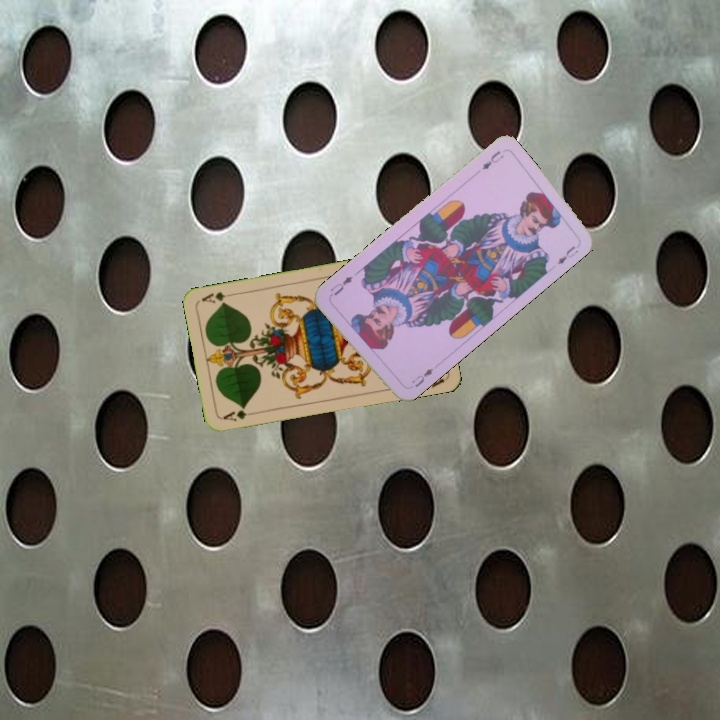EU: (407, 364, 435, 390), (478, 147, 507, 172)
GA: (219, 405, 259, 424)
